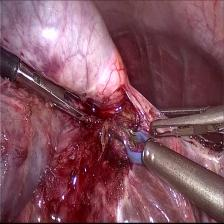Bipolar: (106, 116, 148, 174)
Grasper: (11, 54, 101, 134), (150, 100, 223, 140)
